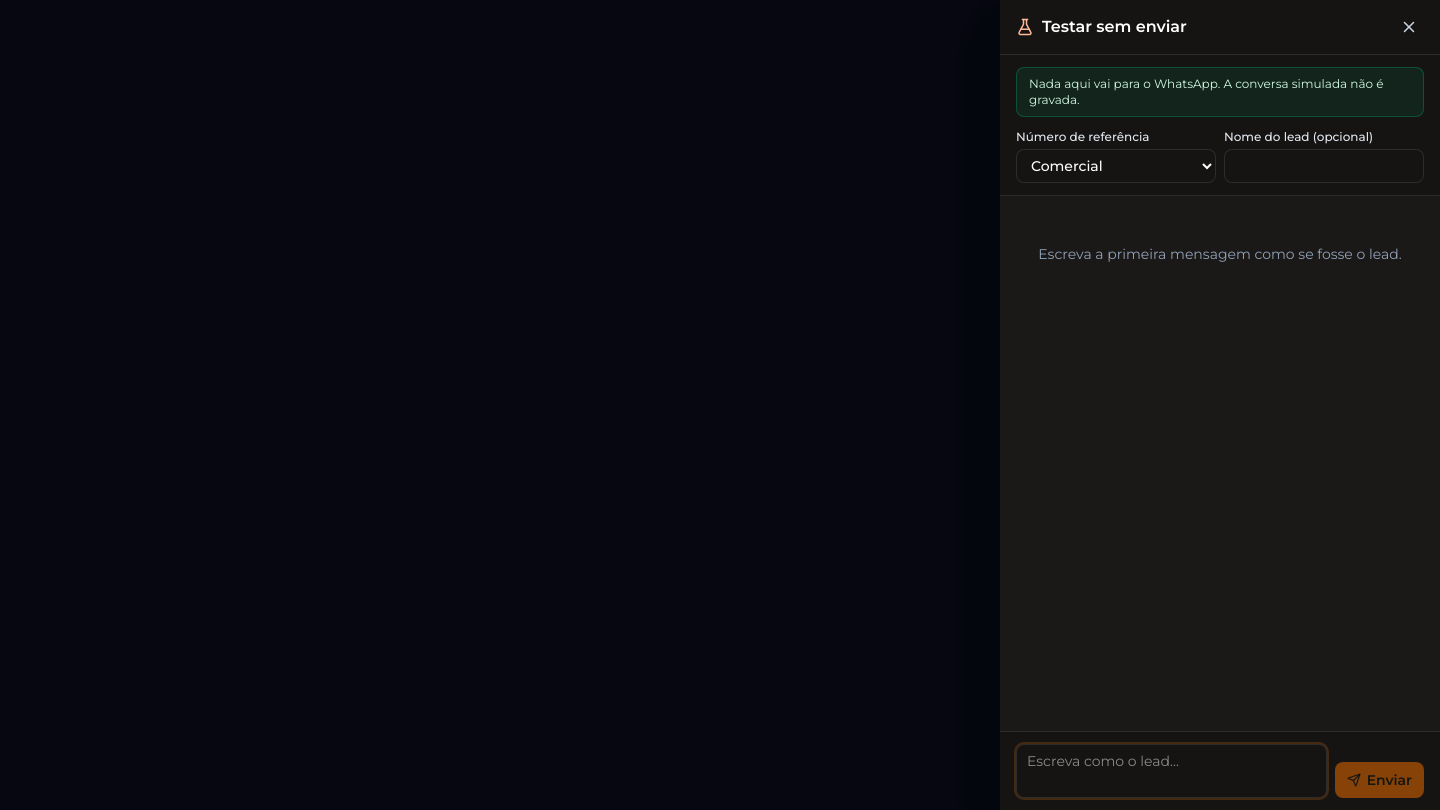
PainelDeTeste › texto do modelo com HTML aparece literal e nenhum elemento é criado a partir dele (G16)
The width and height of the screenshot is (1440, 810).
Type "Oi" into the text box named "Mensagem do lead" at [1171, 771], box [1016,744,1327,798]
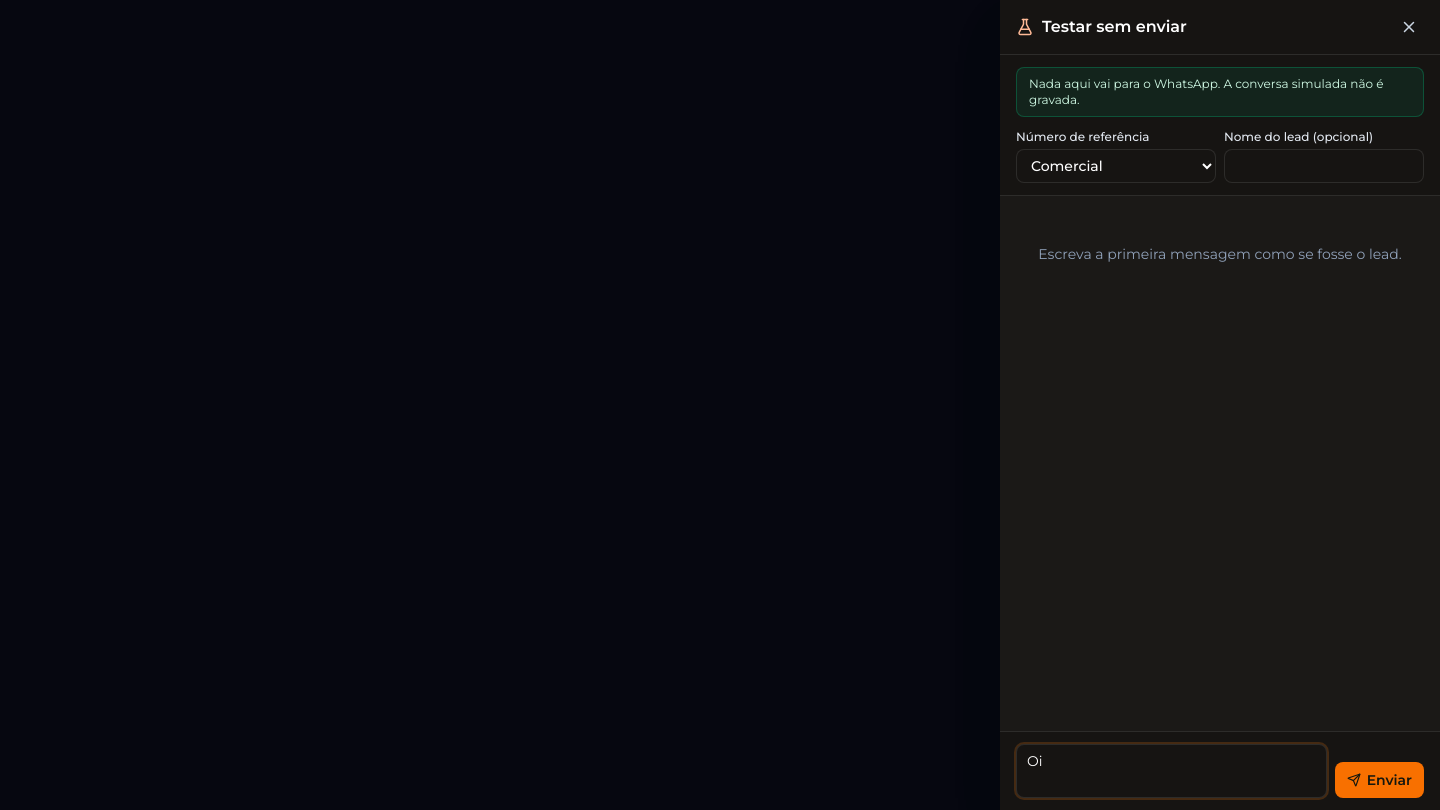
Click the button "Enviar" at [1379, 780], box [1335,762,1424,798]
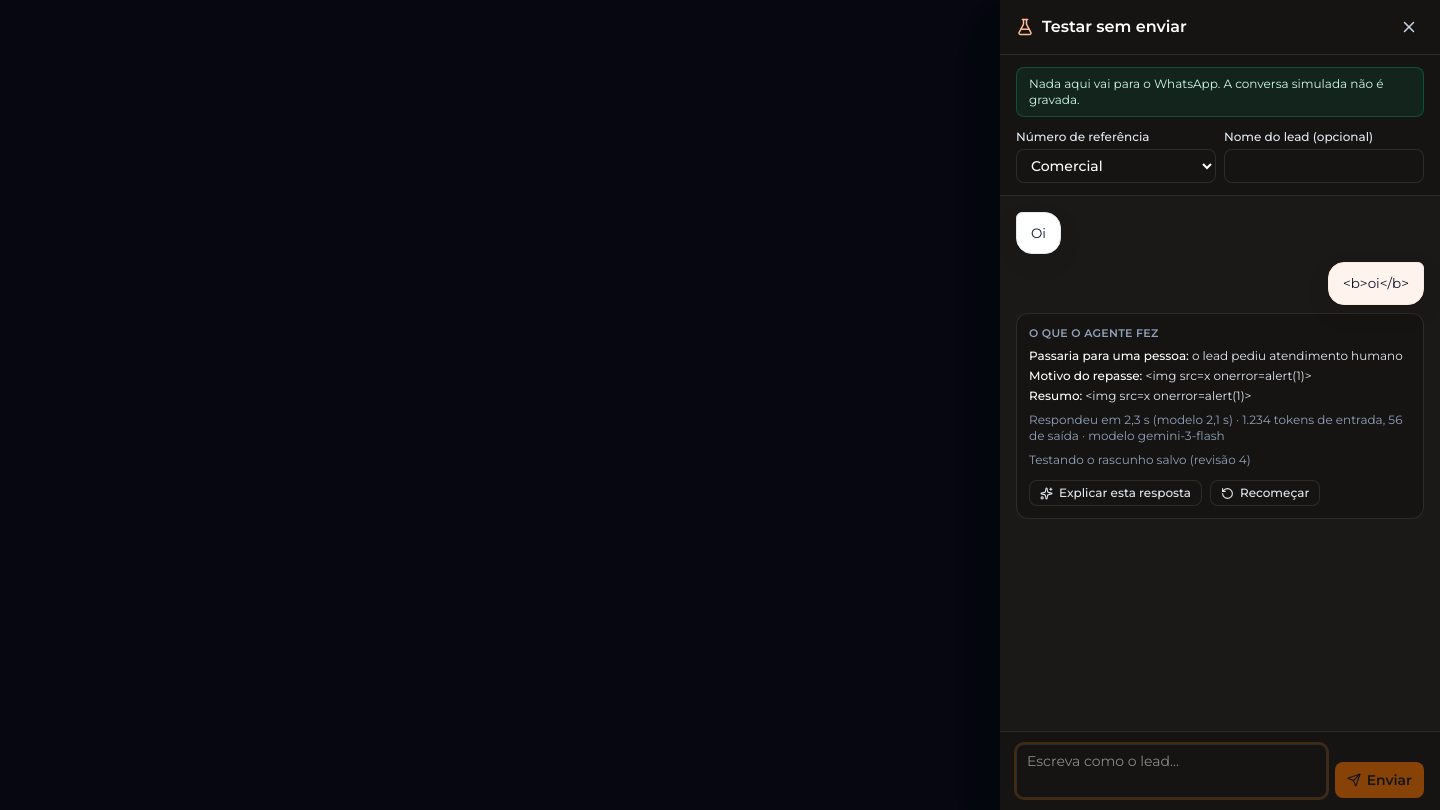
Click the button "Explicar esta resposta" at [1115, 493], box [1029,480,1202,506]
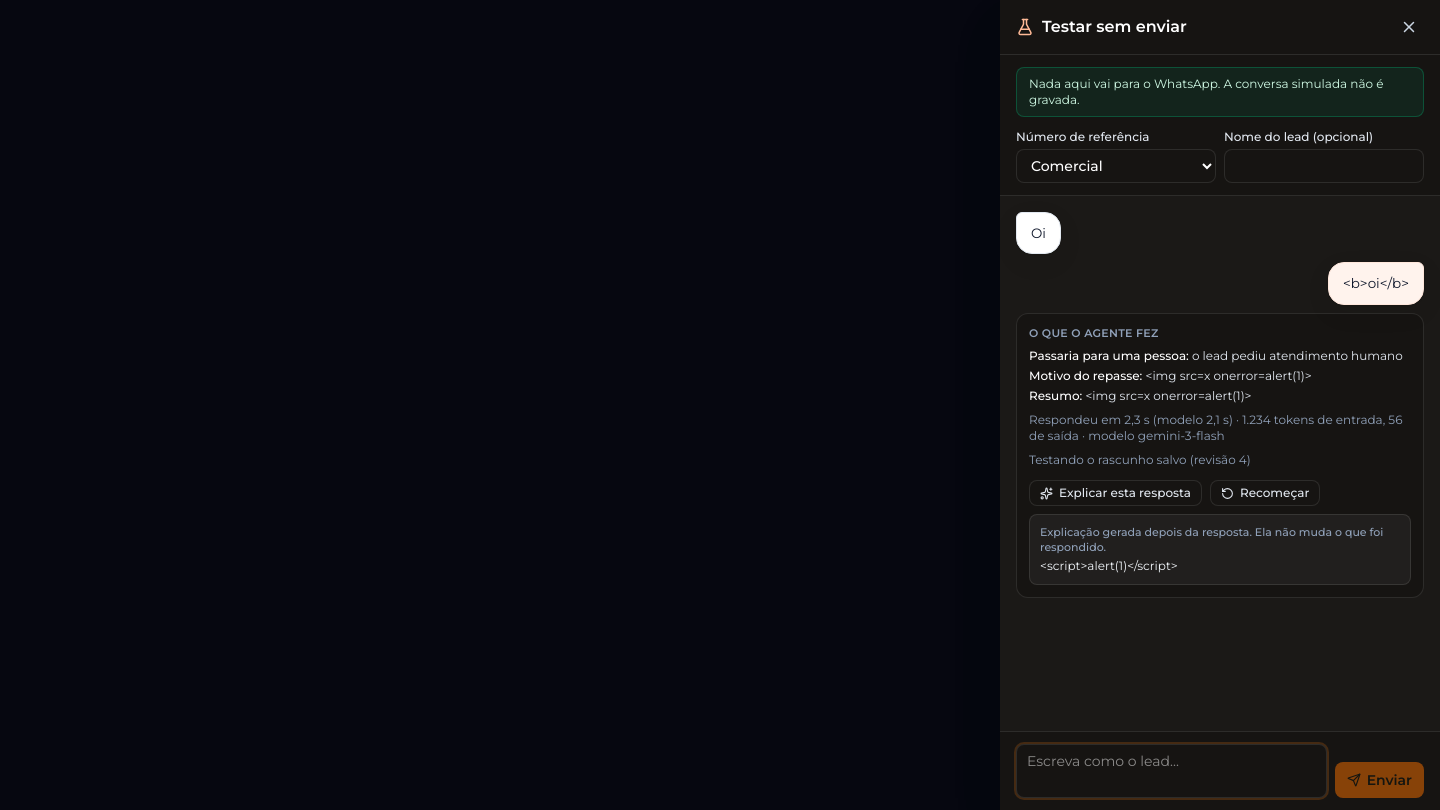
expect the text "<b>oi</b>" is shown: met, box [1328,262,1424,305]
expect the text "<img src=x onerror=alert(1)>" is shown 2 times: met, box [1146,368,1312,383]; [1085,388,1252,403]
expect the text "<script>alert(1)</script>" is shown: met, box [1040,558,1178,574]
